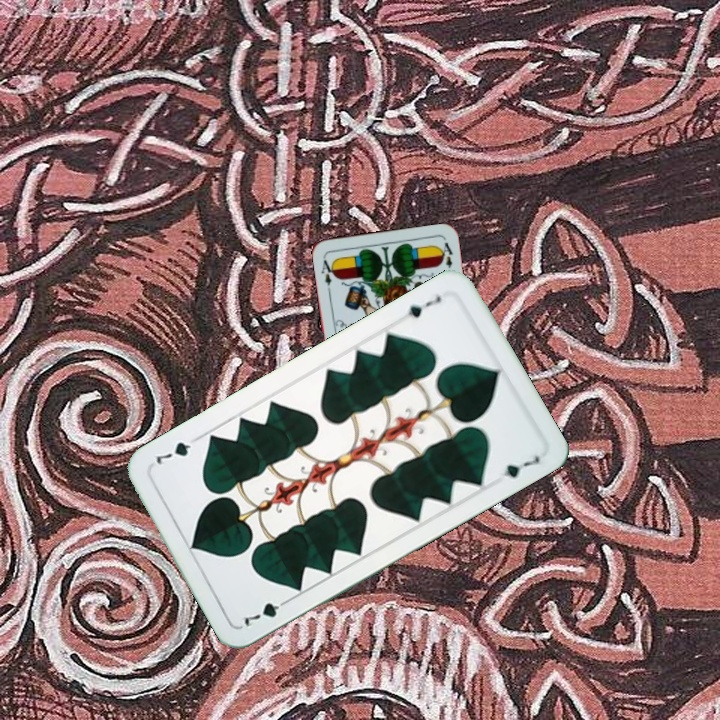EA: (317, 253, 338, 293)
G7: (240, 594, 293, 630), (403, 291, 444, 321)
